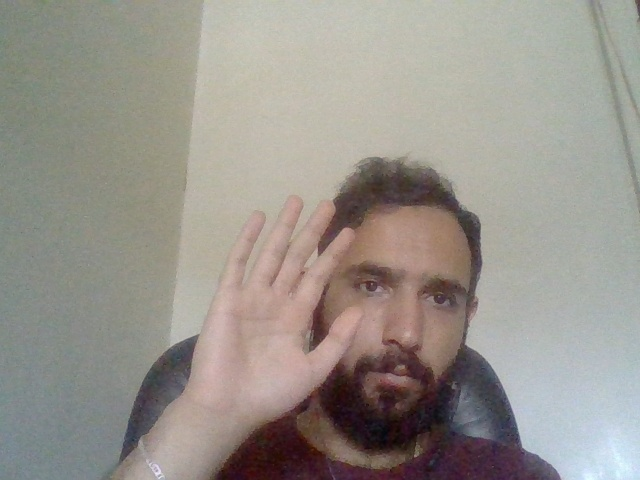Goodbye: (187, 180, 356, 437)
